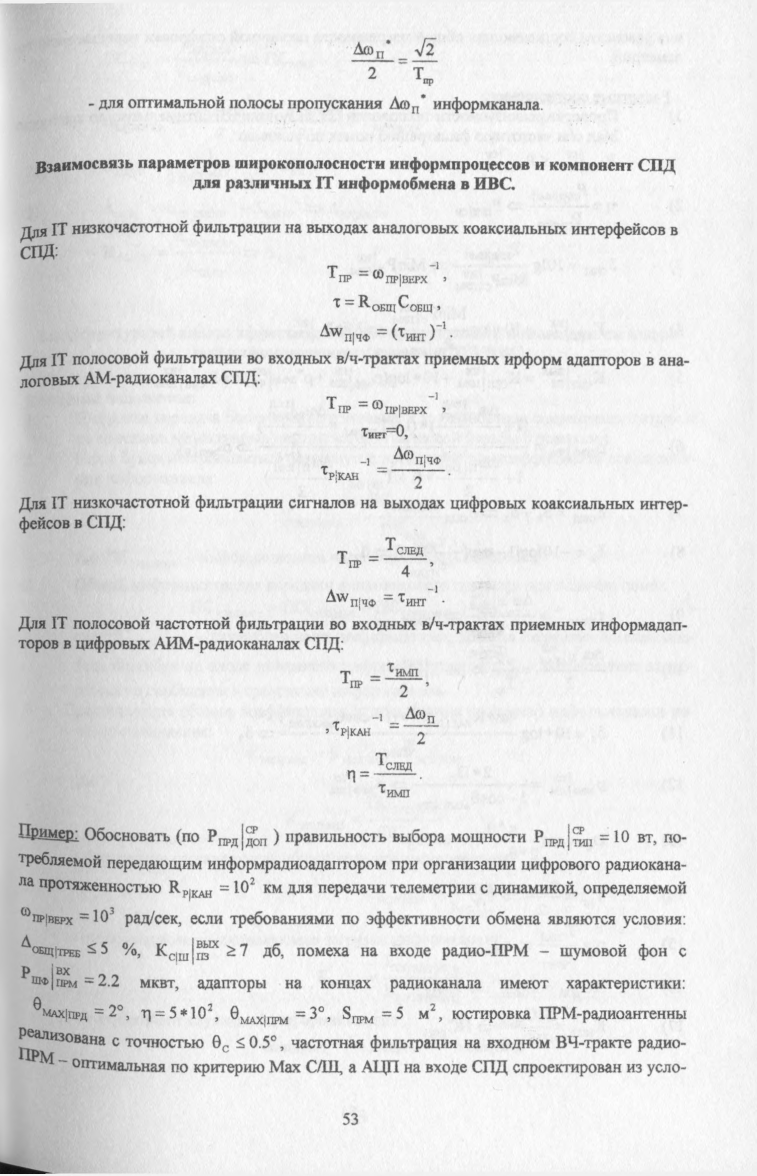C.общ: (398, 293, 435, 312)
R.общ: (357, 293, 395, 312)
T.пр: (323, 394, 353, 415), (324, 262, 352, 284), (341, 665, 362, 691), (411, 64, 435, 86), (337, 548, 361, 569)
T.след: (383, 536, 425, 556), (374, 750, 413, 771)
group: (313, 443, 447, 491), (346, 32, 441, 89), (335, 749, 426, 805), (329, 533, 433, 577), (325, 706, 439, 742), (317, 389, 445, 420), (318, 257, 436, 288), (335, 658, 425, 698), (312, 321, 440, 346), (315, 291, 448, 314), (322, 585, 432, 612)
Δω.п: (350, 39, 385, 58), (404, 706, 435, 724)
Δω.п.чф: (318, 323, 371, 344), (325, 588, 377, 609), (390, 446, 442, 466)
η: (343, 768, 358, 784)
τ: (328, 294, 344, 310)
τ.имп: (383, 659, 420, 677), (377, 782, 412, 799)
τ.инт: (395, 591, 427, 608), (399, 324, 427, 342)
τ.р.кан: (329, 717, 372, 739), (318, 464, 360, 483)
ω.пр.верх: (372, 266, 431, 286), (371, 397, 428, 416)
